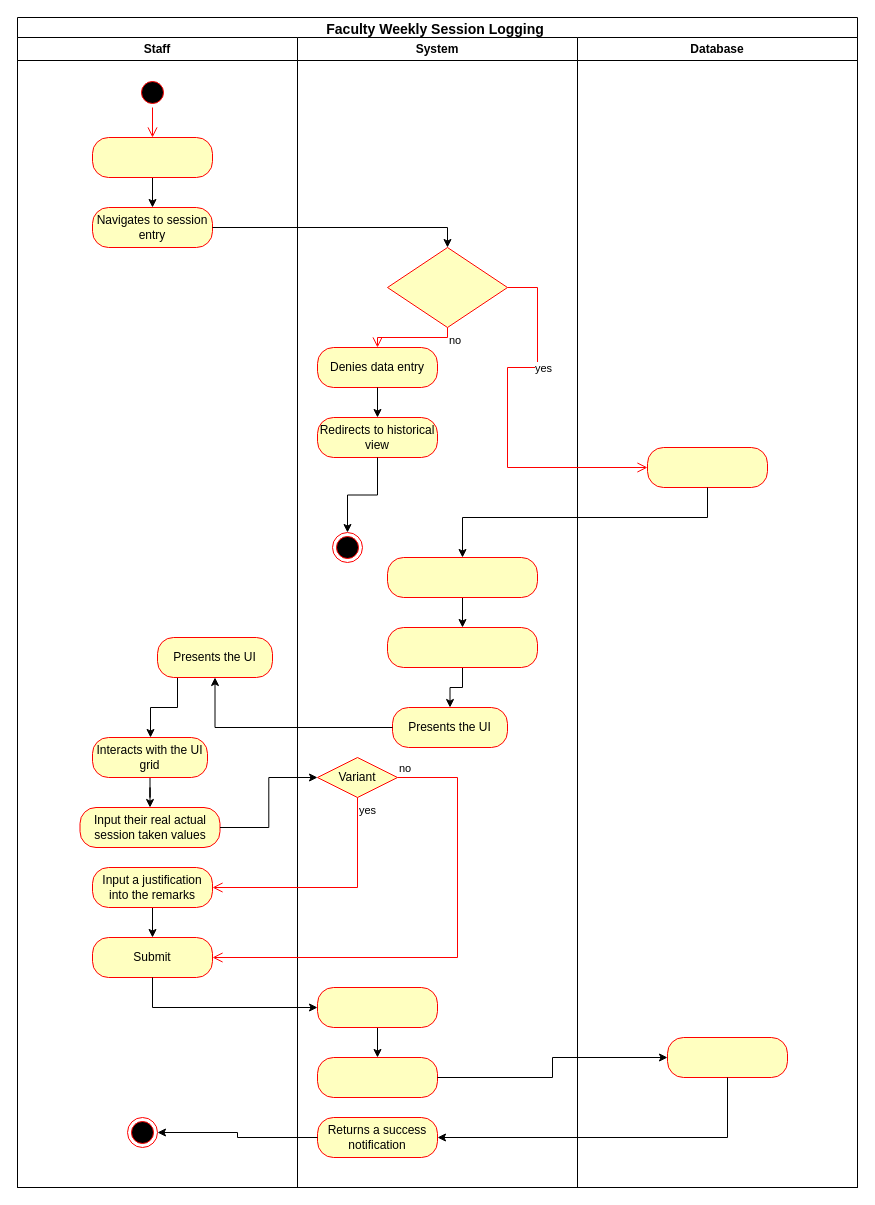
Image size: 875x1205. Some labels were removed from this diagram. Here are the shapes that lost their labels. From the top down, the centre of each, then its label:
pixel 152 157: Logs in
pixel 447 287: Active / Unlock academic week
pixel 707 467: Fetch the specific cources
pixel 462 577: Invokes the SessionPlanningService
pixel 462 647: Calculate the default planned sessions
pixel 377 1007: Calculate cumulative aggregation
pixel 377 1077: Write a transactional records
pixel 727 1057: Saves the records
